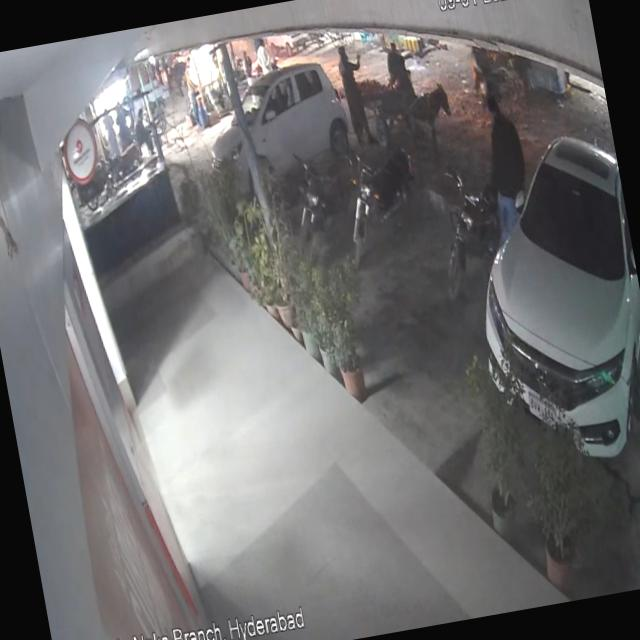Car: (447, 107, 640, 493), (198, 56, 376, 206)
Motorcycle: (338, 130, 432, 273), (424, 160, 508, 300), (288, 150, 364, 264)
